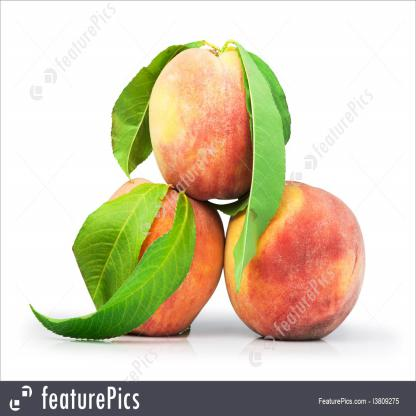peach leaf: (34, 197, 187, 345), (232, 40, 289, 304), (110, 40, 208, 175), (76, 181, 169, 307)
